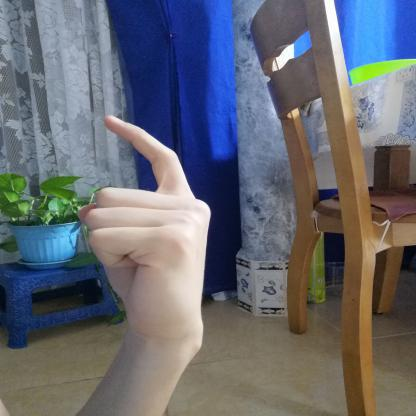RAA: (70, 102, 232, 338)
